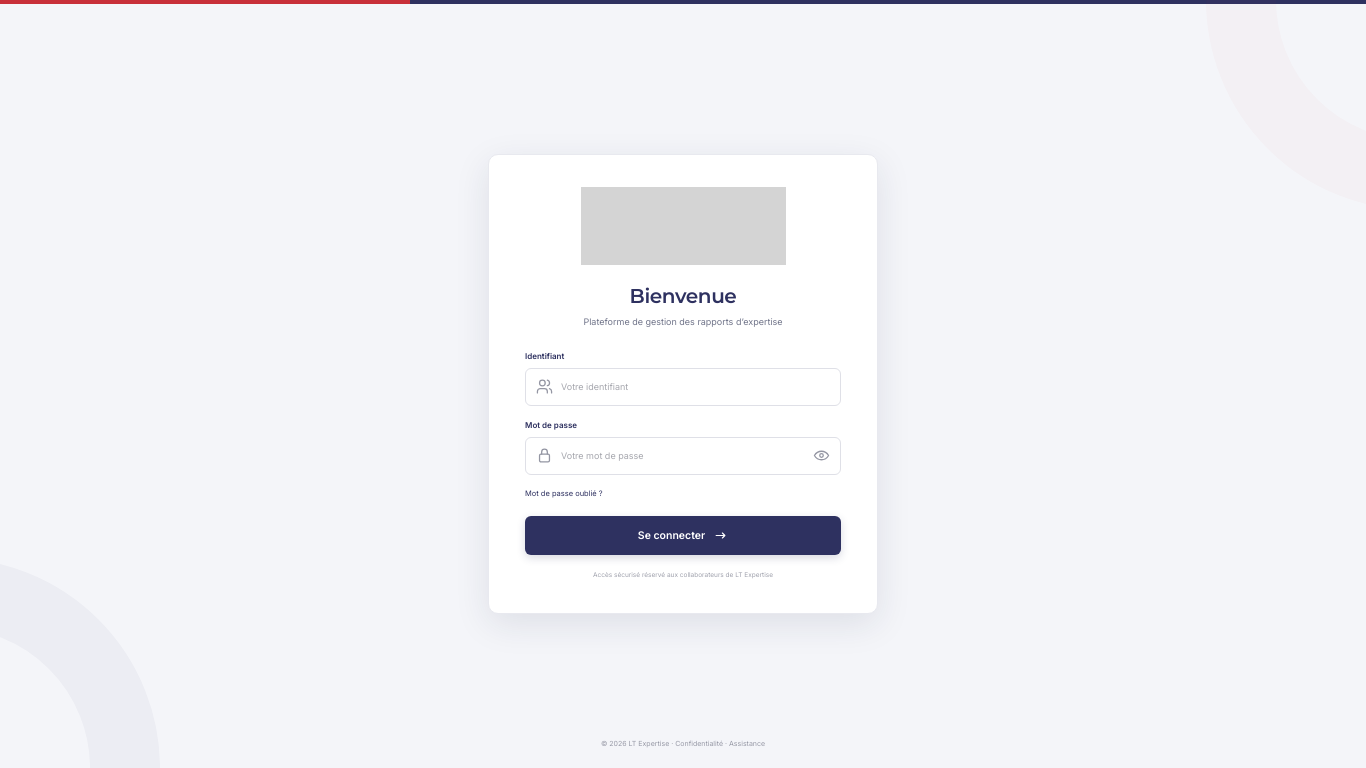
Scenario: page de connexion › affiche le message du serveur (401)
The image size is (1366, 768).
Type "gestionnaire" into the field with placeholder "Votre identifiant". click: (696, 387)
box: [561,380,830,394]
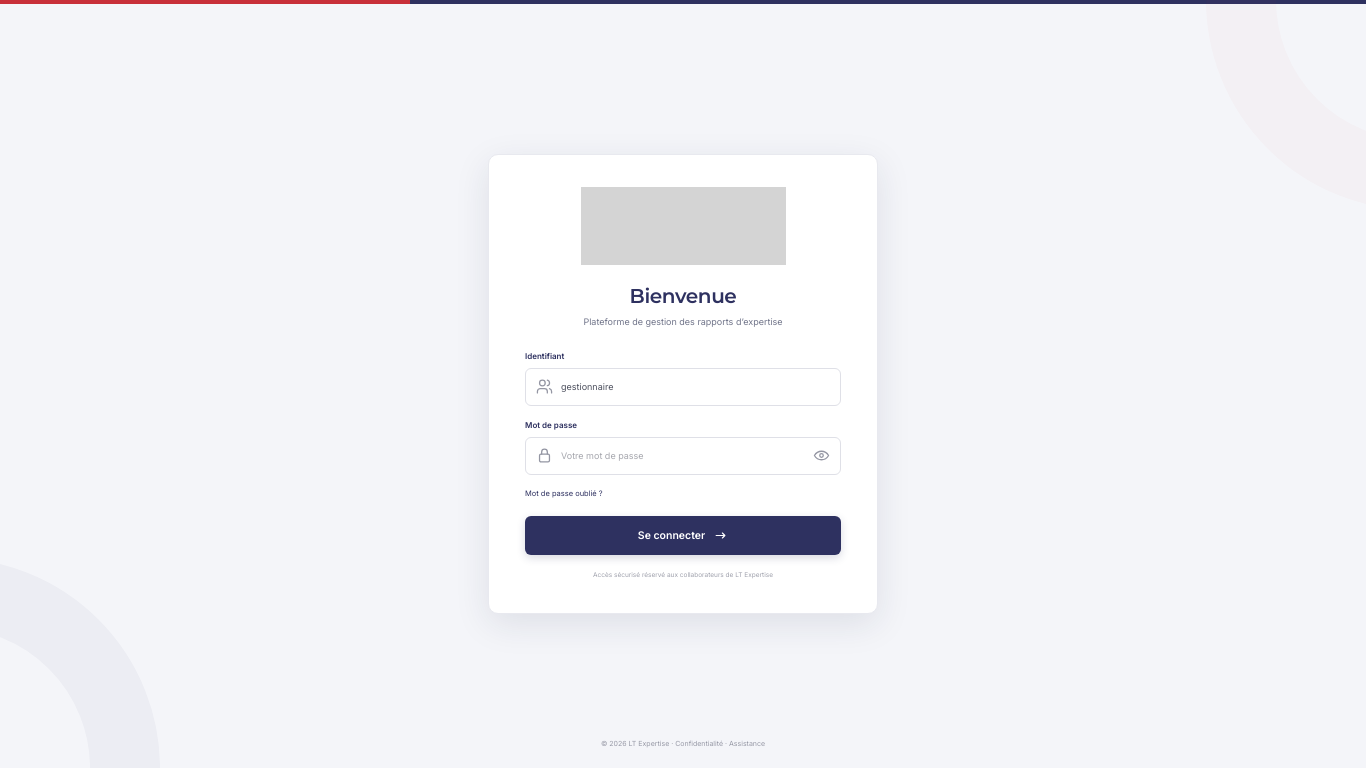
Type "mauvais" into the password field with placeholder "Votre mot de passe". click: (683, 456)
box: [561,449,805,462]
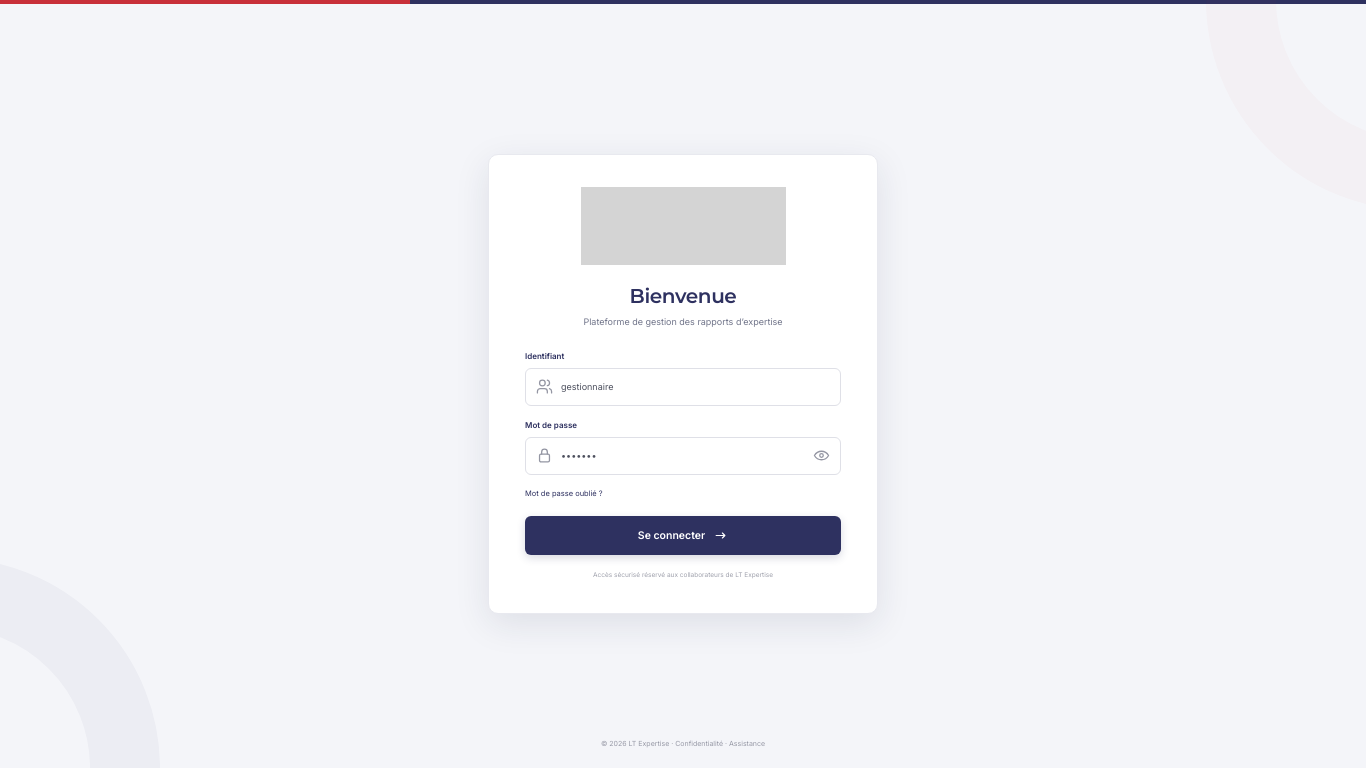
Click the button "Se connecter". click: (683, 536)
box: [525,516,841,555]
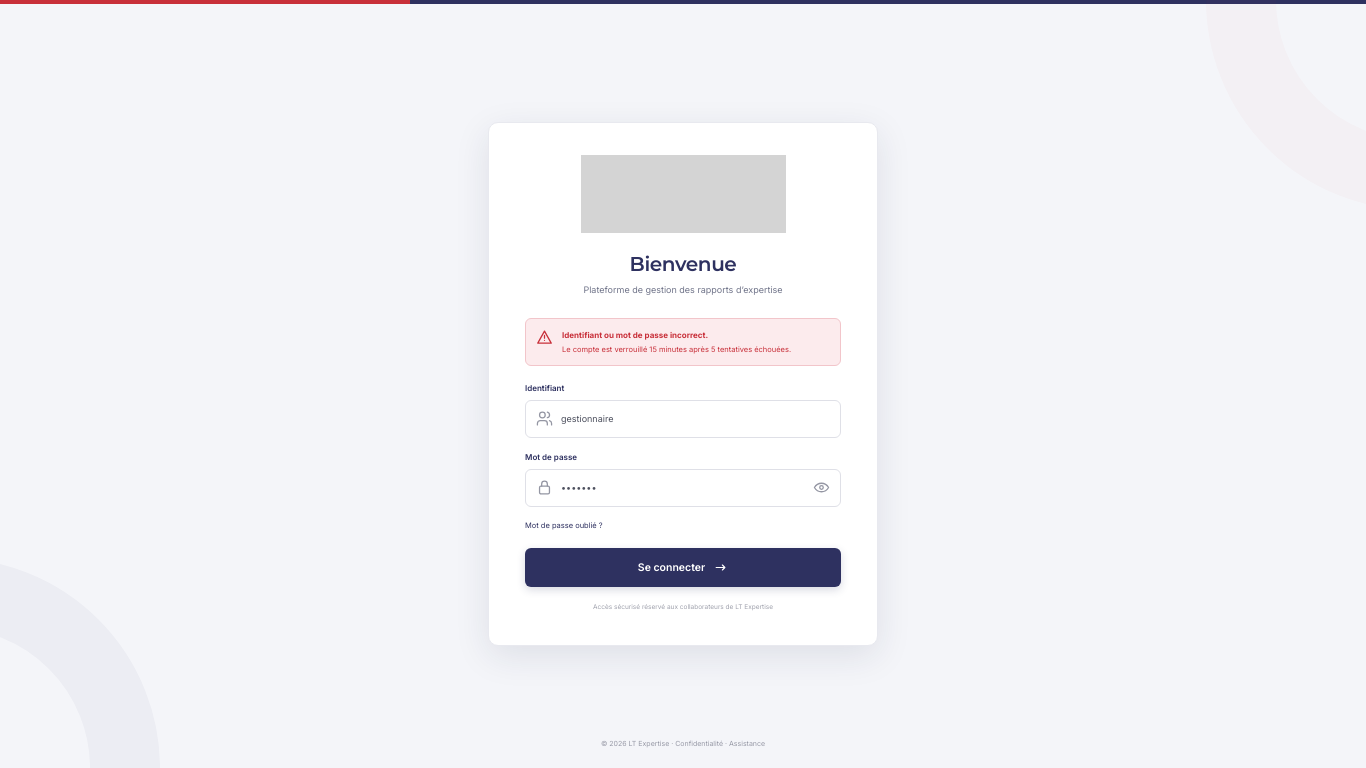
Expected: the message shows "Identifiant ou mot de passe incorrect.", [562,330,708,340]
